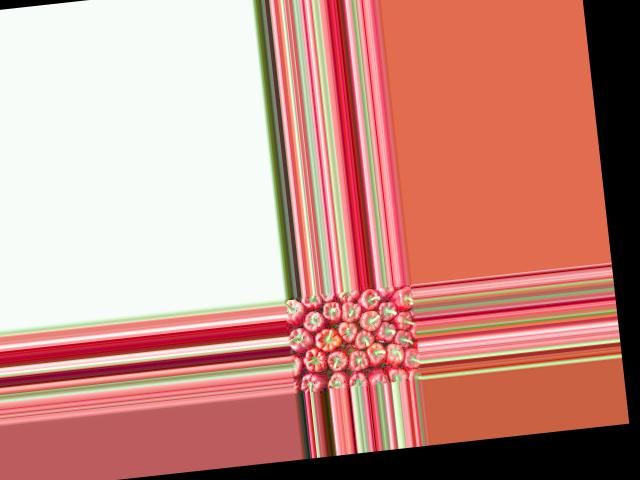bell_pepper: (390, 286, 412, 308)
